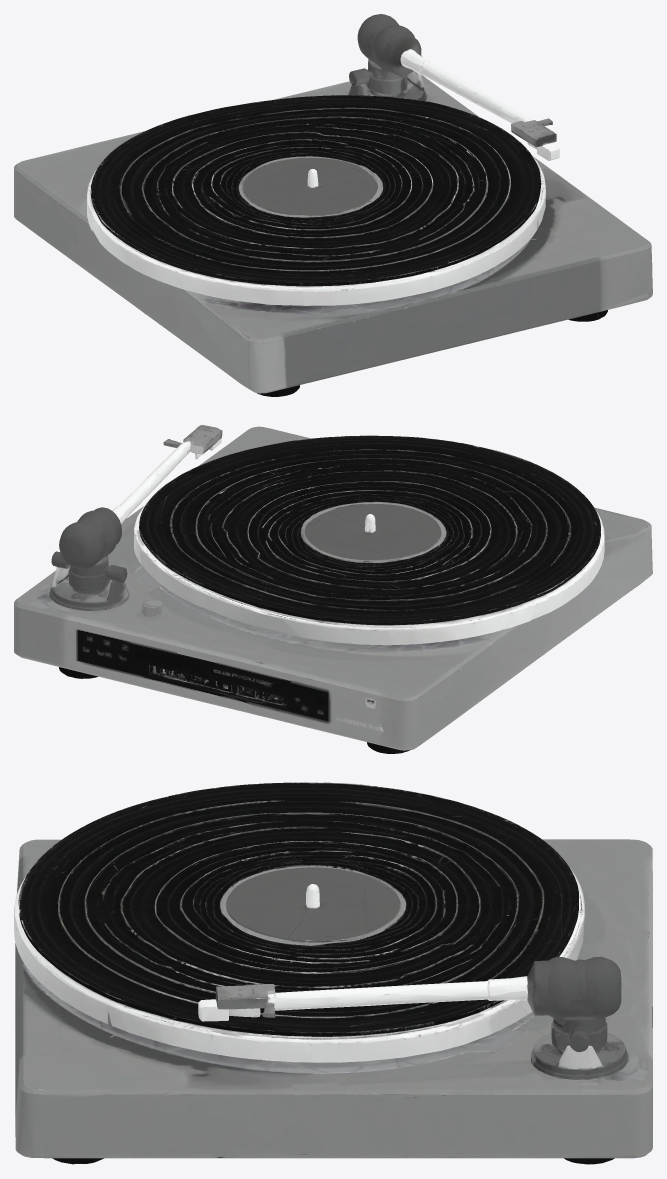
Rendered from turntable.glb.
3 views of the same model, one above another, from view 1: azimuth 30°, elevation 25°; view 2: azimuth 150°, elevation 25°; view 3: azimuth 270°, elevation 25° (orthographic). The views are drawn at different scales.
Bounding box in the file's own units: 1.9 × 0.6269 × 1.89.
Materials: 1 (1 with a texture image).
